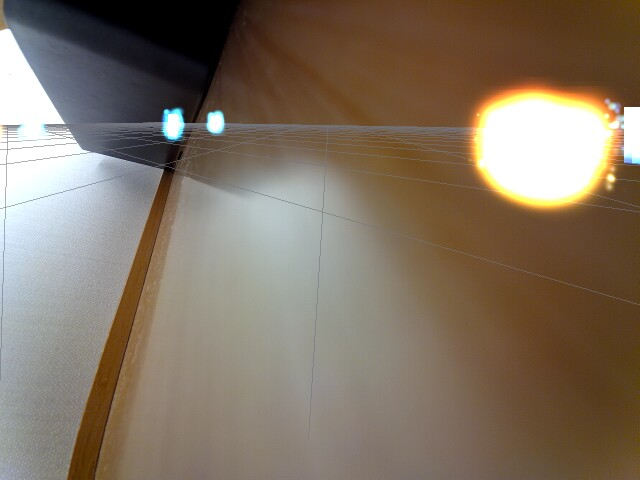firebig: (467, 70, 611, 217)
